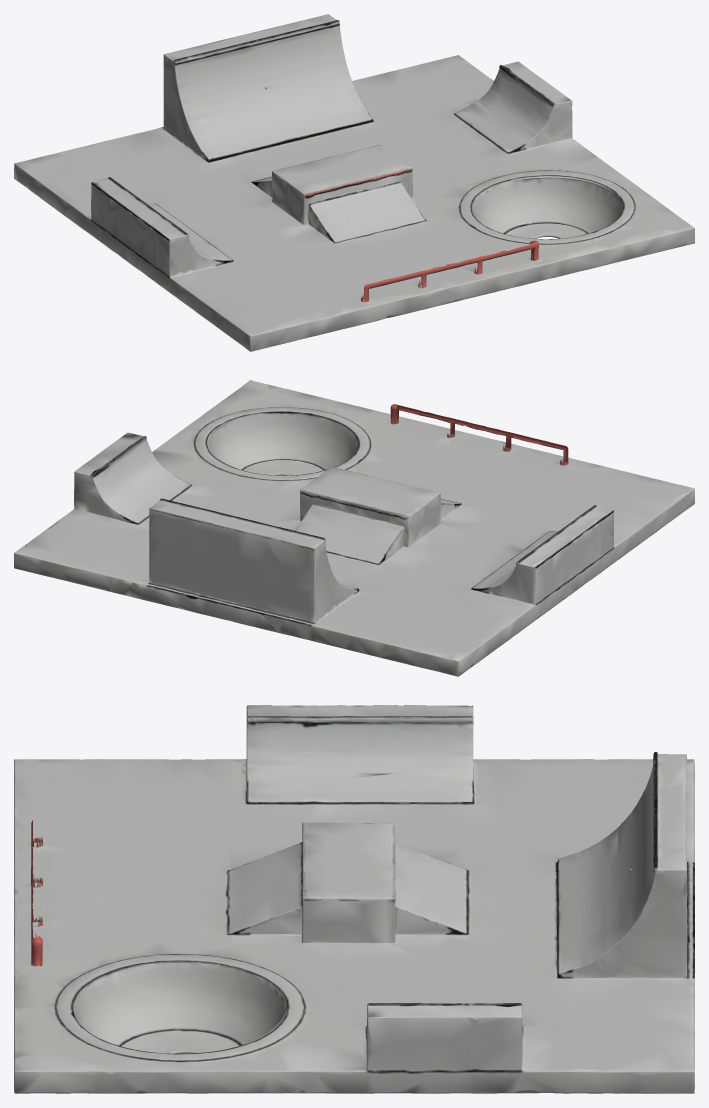
File: skatepark.glb
The picture shows the model from 3 angles, top to bottom: view 1: azimuth 30°, elevation 25°; view 2: azimuth 150°, elevation 25°; view 3: azimuth 270°, elevation 25°; orthographic projection. The views are drawn at different scales.
Visible parts, largest first — view 1: lo; view 2: lo; view 3: lo.
Part boxes in pixels (x1,y1,x2,y2): lo: (14, 14, 694, 351); lo: (14, 380, 694, 676); lo: (14, 705, 694, 1093).
Size of the model in its own units: 1 by 0.2465 by 0.921.
1 material, 1 textured.
